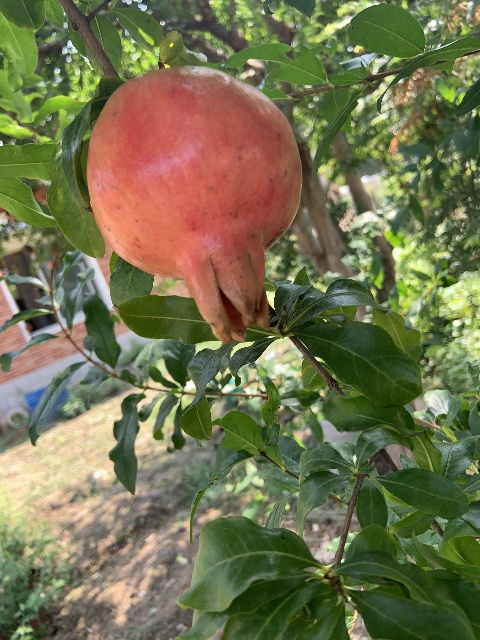ripe: (85, 66, 302, 342)
